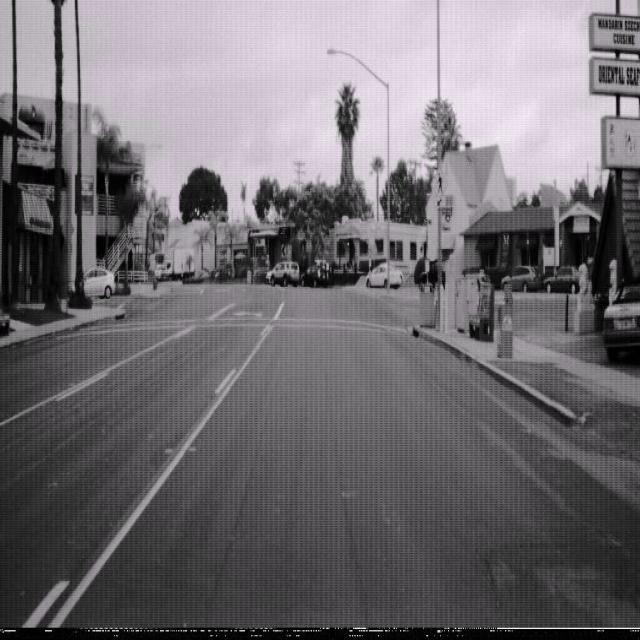pedestrianCrossing: (430, 164, 449, 203)
